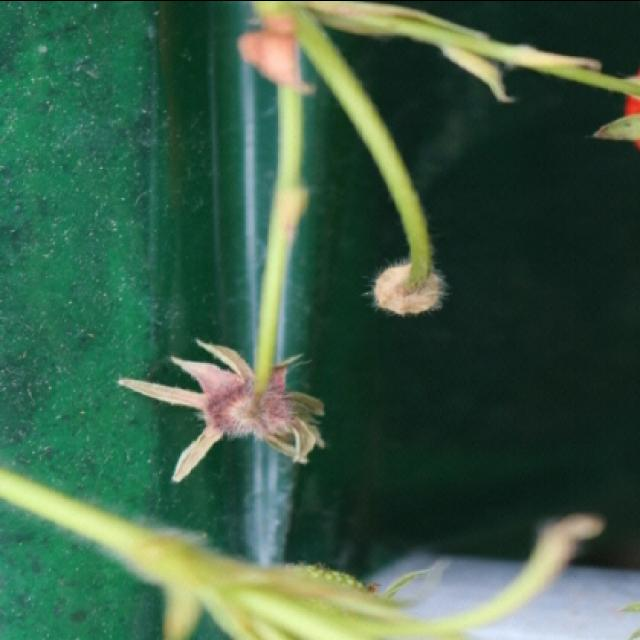Gray Mold: (115, 336, 326, 483)
